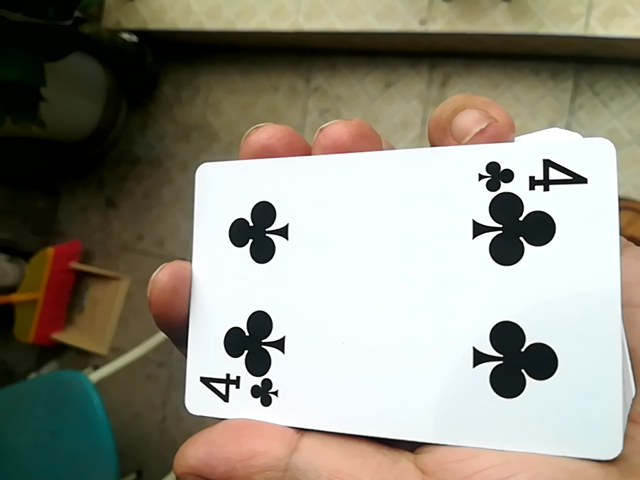mh 4: (176, 131, 620, 457)
